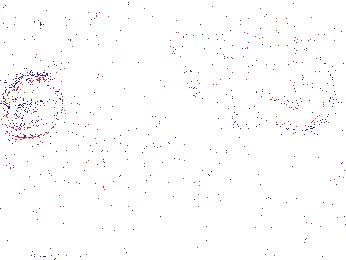moon jellyfish: (241, 38, 336, 131), (171, 37, 263, 102), (75, 101, 166, 154), (1, 76, 65, 139), (1, 46, 56, 88)
